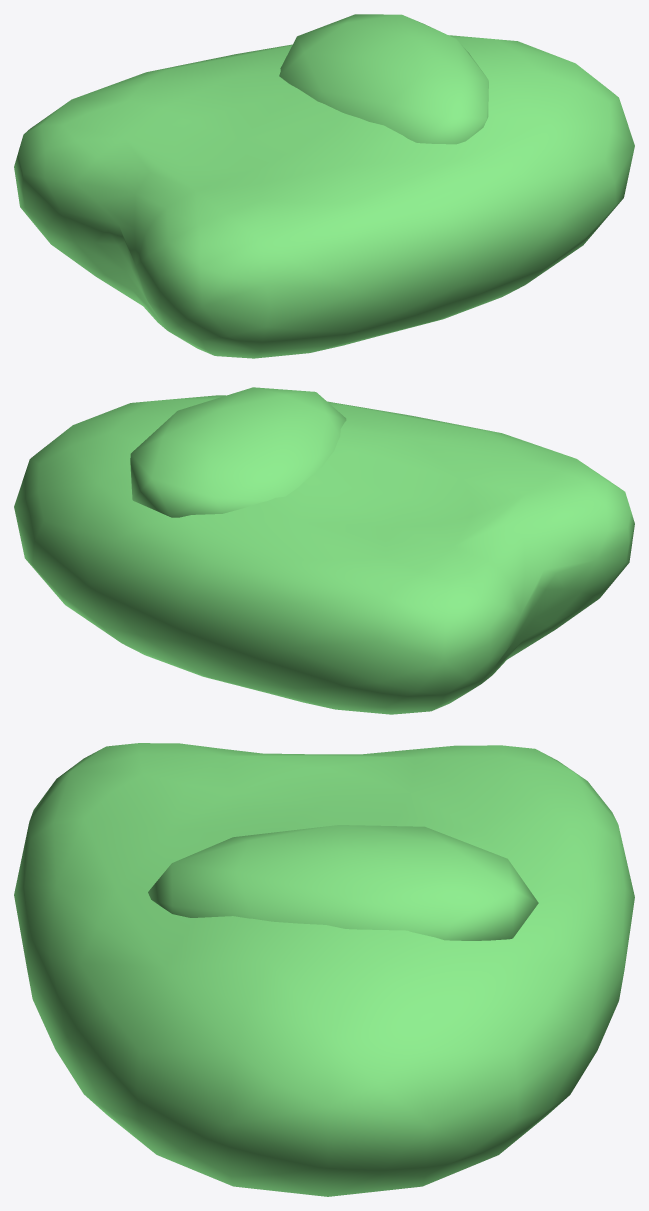
The model's file is cell 1.fbx.
3 views of the same model, one above another, from view 1: azimuth 30°, elevation 25°; view 2: azimuth 150°, elevation 25°; view 3: azimuth 270°, elevation 25° (orthographic). The views are drawn at different scales.
Visible parts, largest first — view 1: Icosphere, Icosphere.001; view 2: Icosphere, Icosphere.001; view 3: Icosphere, Icosphere.001.
Part boxes in pixels (bbox=[...]): Icosphere: bbox=[14, 35, 634, 358]; Icosphere.001: bbox=[279, 14, 488, 144]; Icosphere: bbox=[14, 395, 634, 714]; Icosphere.001: bbox=[130, 387, 346, 517]; Icosphere: bbox=[14, 743, 634, 1196]; Icosphere.001: bbox=[148, 825, 538, 940].
Size of the model in its own units: 137 by 58.46 by 105.
